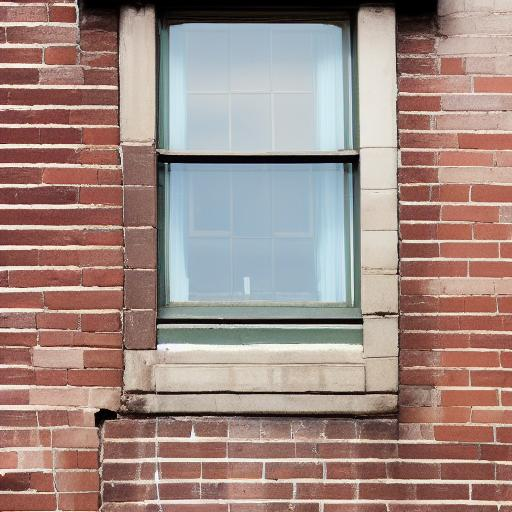Window: (79, 2, 442, 423)
